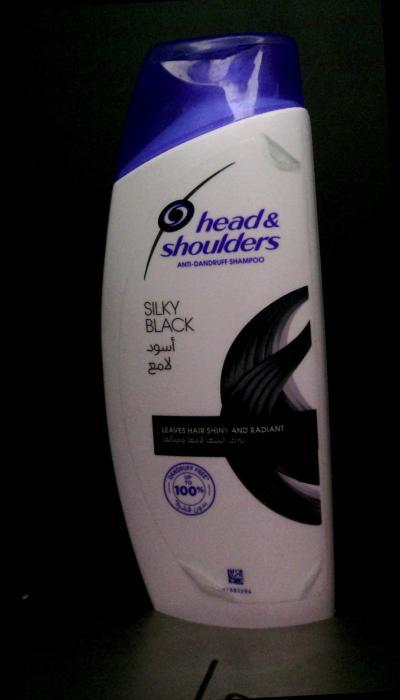adhesion_unacc: (180, 556, 238, 604), (282, 554, 336, 599), (258, 136, 308, 178)
